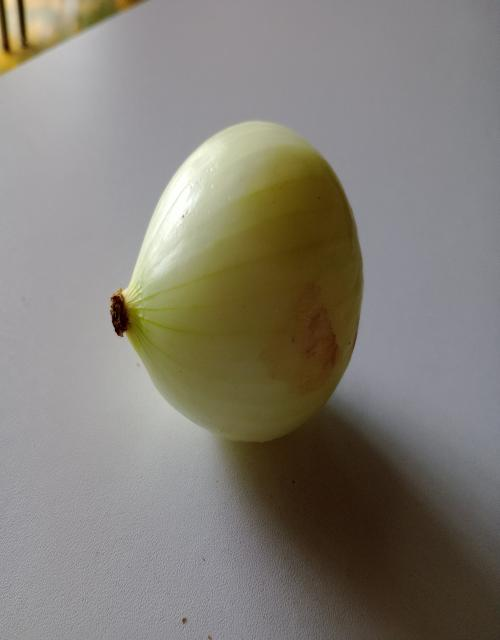Cebolla-: (64, 92, 440, 518)
